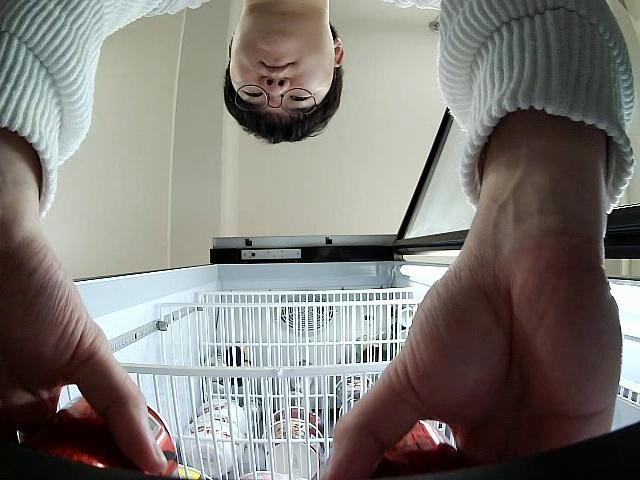11_cocaColaZero: (31, 394, 178, 474), (342, 411, 466, 480)
